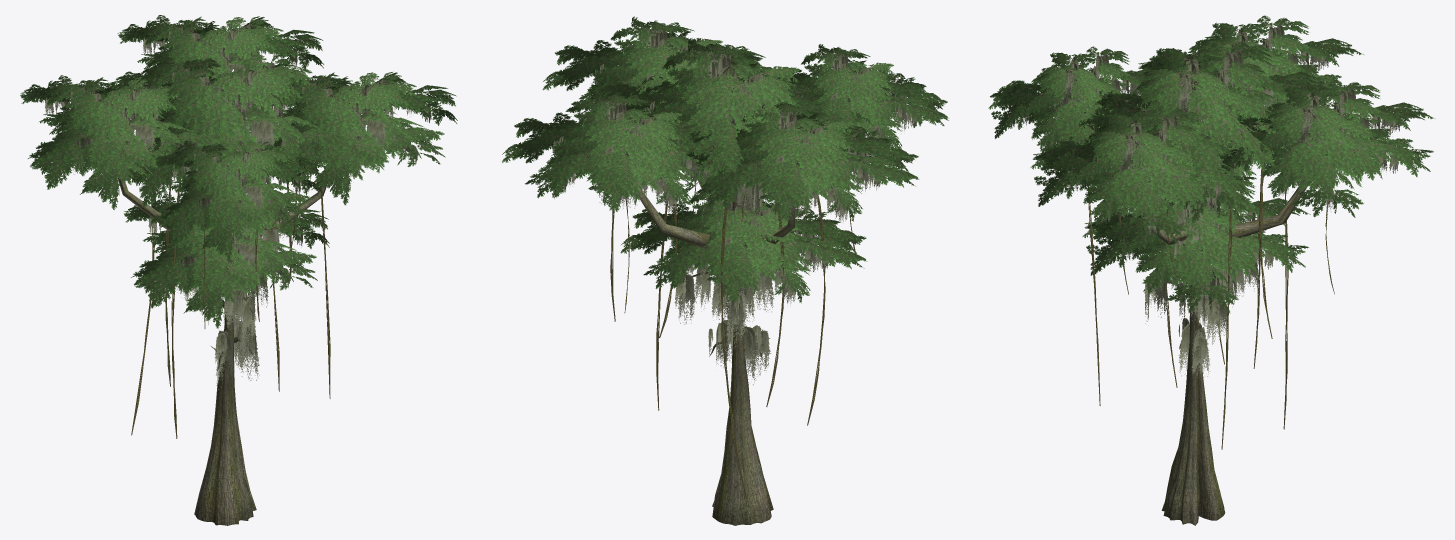
File: jungle_tree.glb
3 views of the same model, side by side, from view 1: azimuth 30°, elevation 25°; view 2: azimuth 150°, elevation 25°; view 3: azimuth 270°, elevation 25° (orthographic). The views are drawn at different scales.
Parts seen in each view (by area): view 1: bald_cypress_03:Mesh_bald_cypress_03:Leaves_4_0_29, bald_cypress_03:Mesh_bald_cypress_03:Leaves_4_0.004_47, bald_cypress_03:Mesh_bald_cypress_03:Leaves_4_0.005_48, bald_cypress_03:Mesh_bald_cypress_03:Leaves_4_0.002_45, bald_cypress_03:Mesh_bald_cypress_03:Leaves_4_0.003_46, bald_cypress_03:Mesh_bald_cypress_03:Leaves_4_0.001_44, cypres_chauve_cypreschauve_bark_D_cypreschauve_bark_D_0_2, cypres_chauve_CypresChauve_mousse_D_CypresChauve_mousse_D_0_, pCylinder8_Vine01_0.012_24; view 2: bald_cypress_03:Mesh_bald_cypress_03:Leaves_4_0.004_47, bald_cypress_03:Mesh_bald_cypress_03:Leaves_4_0.001_44, bald_cypress_03:Mesh_bald_cypress_03:Leaves_4_0.003_46, bald_cypress_03:Mesh_bald_cypress_03:Leaves_4_0_29, bald_cypress_03:Mesh_bald_cypress_03:Leaves_4_0.002_45, bald_cypress_03:Mesh_bald_cypress_03:Leaves_4_0.005_48, cypres_chauve_cypreschauve_bark_D_cypreschauve_bark_D_0_2, cypres_chauve_CypresChauve_mousse_D_CypresChauve_mousse_D_0_, bald_cypress_03:Mesh_bald_cypress_03:Branches_3_0_59, pCylinder8_Vine01_0.007_19, pCylinder8_Vine01_0.008_20; view 3: bald_cypress_03:Mesh_bald_cypress_03:Leaves_4_0_29, bald_cypress_03:Mesh_bald_cypress_03:Leaves_4_0.005_48, bald_cypress_03:Mesh_bald_cypress_03:Leaves_4_0.001_44, bald_cypress_03:Mesh_bald_cypress_03:Leaves_4_0.003_46, bald_cypress_03:Mesh_bald_cypress_03:Leaves_4_0.002_45, bald_cypress_03:Mesh_bald_cypress_03:Leaves_4_0.004_47, cypres_chauve_cypreschauve_bark_D_cypreschauve_bark_D_0_2, cypres_chauve_CypresChauve_mousse_D_CypresChauve_mousse_D_0_, bald_cypress_03:Mesh_bald_cypress_03:Branches_3_0_59, pCylinder8_Vine01_0.011_23, pCylinder8_Vine01_0.007_19.
Boxes of the visible parts, x1,y1,x2,y2 form: bald_cypress_03:Mesh_bald_cypress_03:Leaves_4_0_29: (110, 53, 351, 208); bald_cypress_03:Mesh_bald_cypress_03:Leaves_4_0.004_47: (20, 75, 212, 209); bald_cypress_03:Mesh_bald_cypress_03:Leaves_4_0.005_48: (269, 71, 457, 205); bald_cypress_03:Mesh_bald_cypress_03:Leaves_4_0.002_45: (155, 140, 322, 262); bald_cypress_03:Mesh_bald_cypress_03:Leaves_4_0.003_46: (124, 194, 329, 328); bald_cypress_03:Mesh_bald_cypress_03:Leaves_4_0.001_44: (117, 15, 323, 120); cypres_chauve_cypreschauve_bark_D_cypreschauve_bark_D_0_2: (194, 75, 256, 525); cypres_chauve_CypresChauve_mousse_D_CypresChauve_mousse_D_0_: (180, 121, 279, 389); pCylinder8_Vine01_0.012_24: (320, 173, 330, 398); bald_cypress_03:Mesh_bald_cypress_03:Leaves_4_0.004_47: (677, 102, 919, 221); bald_cypress_03:Mesh_bald_cypress_03:Leaves_4_0.001_44: (502, 89, 741, 214); bald_cypress_03:Mesh_bald_cypress_03:Leaves_4_0.003_46: (620, 192, 867, 303); bald_cypress_03:Mesh_bald_cypress_03:Leaves_4_0_29: (589, 38, 873, 206); bald_cypress_03:Mesh_bald_cypress_03:Leaves_4_0.002_45: (765, 44, 948, 152); bald_cypress_03:Mesh_bald_cypress_03:Leaves_4_0.005_48: (542, 16, 772, 124); cypres_chauve_cypreschauve_bark_D_cypreschauve_bark_D_0_2: (684, 67, 773, 525); cypres_chauve_CypresChauve_mousse_D_CypresChauve_mousse_D_0_: (674, 183, 774, 385); bald_cypress_03:Mesh_bald_cypress_03:Branches_3_0_59: (638, 189, 709, 248); pCylinder8_Vine01_0.007_19: (721, 206, 747, 500); pCylinder8_Vine01_0.008_20: (807, 194, 825, 425); bald_cypress_03:Mesh_bald_cypress_03:Leaves_4_0_29: (1069, 39, 1335, 224); bald_cypress_03:Mesh_bald_cypress_03:Leaves_4_0.005_48: (1030, 106, 1256, 244); bald_cypress_03:Mesh_bald_cypress_03:Leaves_4_0.001_44: (1217, 80, 1434, 217); bald_cypress_03:Mesh_bald_cypress_03:Leaves_4_0.003_46: (1082, 182, 1310, 313); bald_cypress_03:Mesh_bald_cypress_03:Leaves_4_0.002_45: (988, 46, 1152, 153); bald_cypress_03:Mesh_bald_cypress_03:Leaves_4_0.004_47: (1137, 15, 1363, 122); cypres_chauve_cypreschauve_bark_D_cypreschauve_bark_D_0_2: (1143, 69, 1225, 525); cypres_chauve_CypresChauve_mousse_D_CypresChauve_mousse_D_0_: (1144, 199, 1258, 378); bald_cypress_03:Mesh_bald_cypress_03:Branches_3_0_59: (1232, 138, 1308, 237); pCylinder8_Vine01_0.011_23: (1221, 204, 1232, 449); pCylinder8_Vine01_0.007_19: (1283, 190, 1288, 429).
Bounding box in the file's own units: 29.58 × 31.51 × 28.31.
9 materials, 9 textured.
